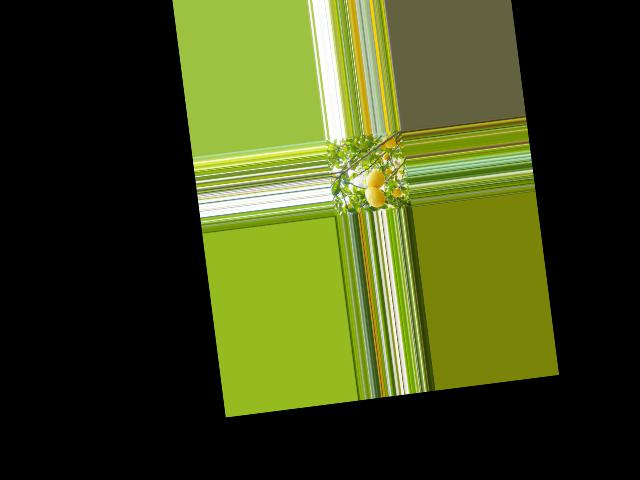lemon: (362, 167, 388, 191)
